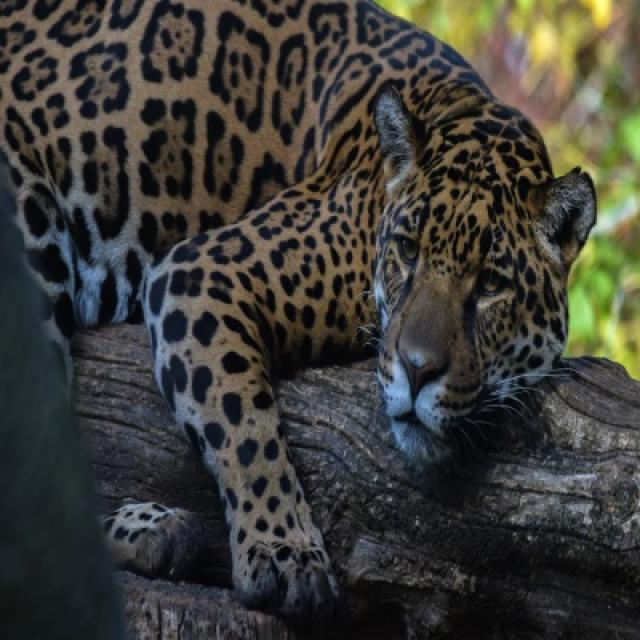Jaguar: (0, 0, 598, 632)
